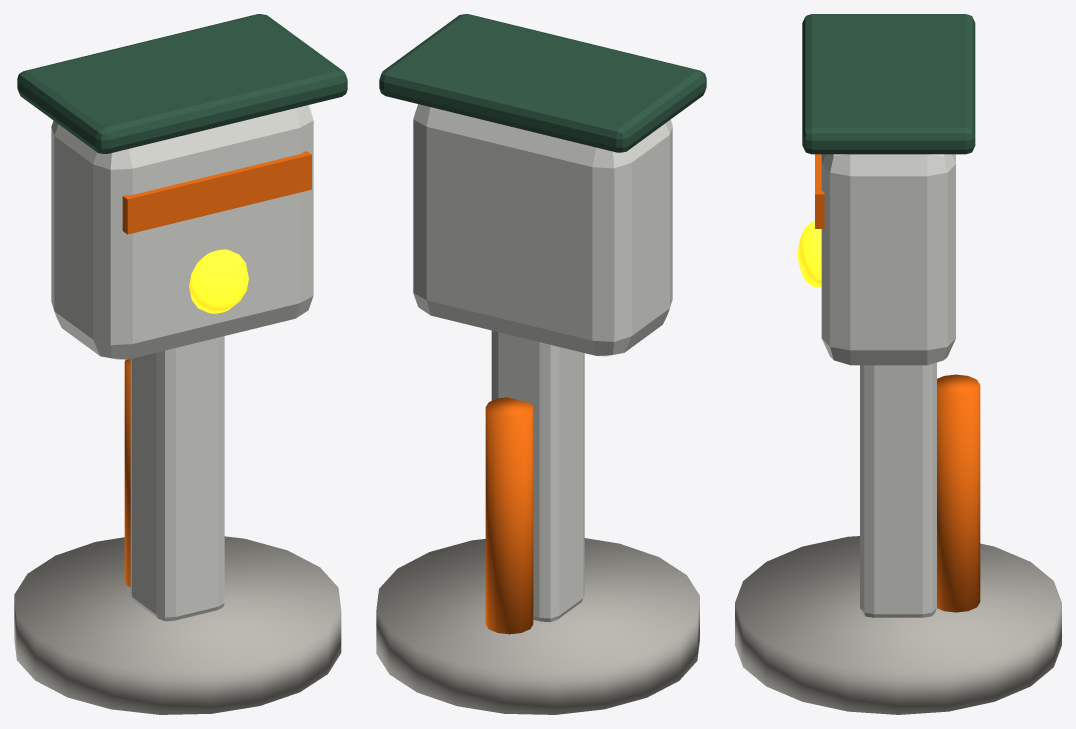
File: socket.glb
3 views of the same model, side by side, from view 1: azimuth 30°, elevation 25°; view 2: azimuth 150°, elevation 25°; view 3: azimuth 270°, elevation 25° (orthographic).
Visible parts, largest first — view 1: socket; view 2: socket; view 3: socket.
Part boxes in pixels (left/top/right/bottom): socket: left=14, top=14, right=347, bottom=714; socket: left=376, top=14, right=706, bottom=714; socket: left=735, top=14, right=1061, bottom=714.
Bounding box in the file's own units: 0.34 × 0.66 × 0.34.
